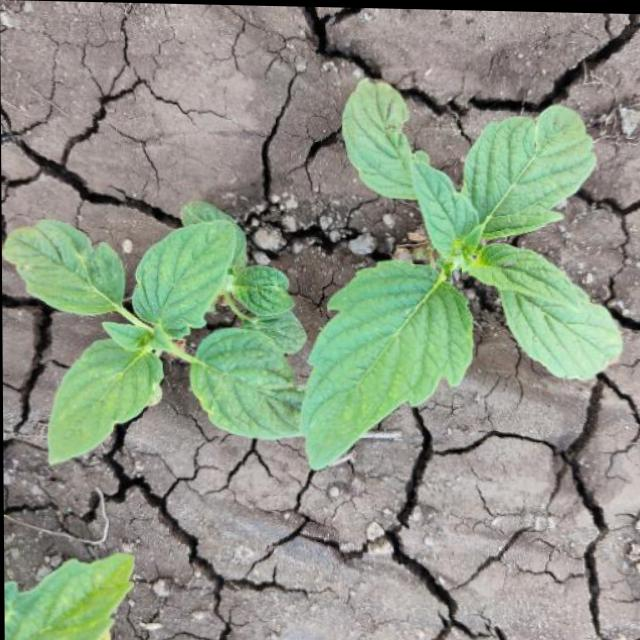crop: (295, 95, 623, 467), (13, 194, 330, 488)
